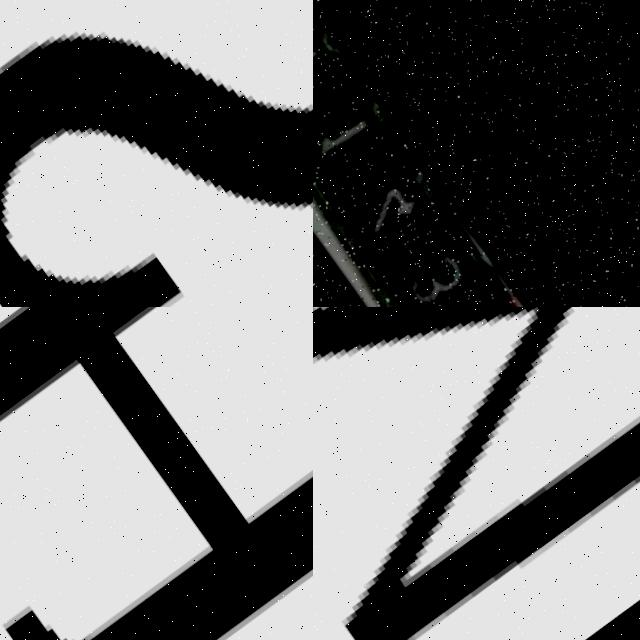1: (313, 105, 375, 170)
3: (391, 245, 469, 307)
4: (350, 180, 425, 251)
M: (313, 307, 640, 640)
S: (0, 0, 313, 307)
